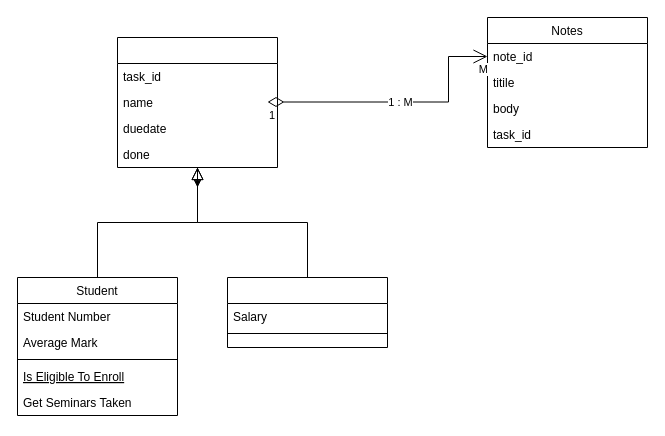
This 665x436 diagram has some shape labels left out. The shapes that lost their labels are listed below. From the top down, each one's box as (x1, y1, x2, y2) in pixels, then its label:
(116, 36, 278, 168): Tasks
(226, 276, 388, 348): Professor
